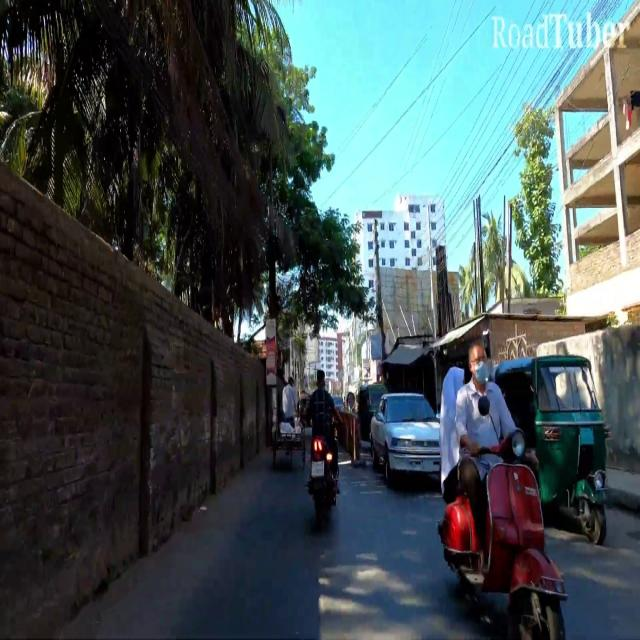white: (366, 390, 440, 481)
